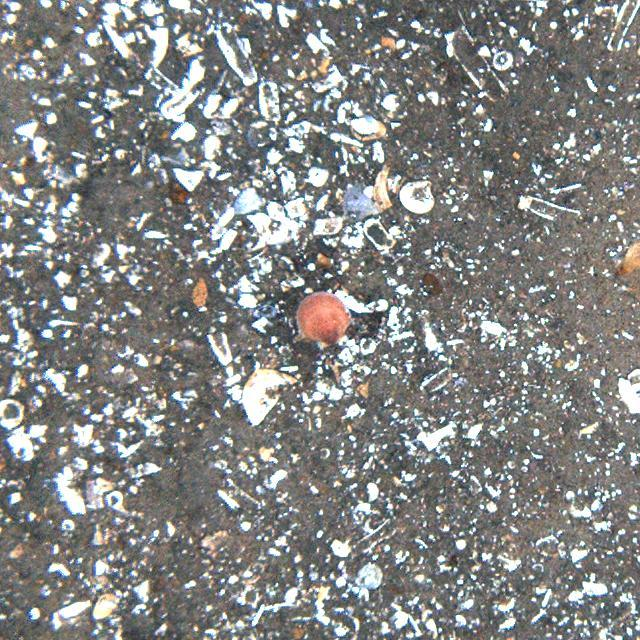scallop: (298, 292, 348, 341)
